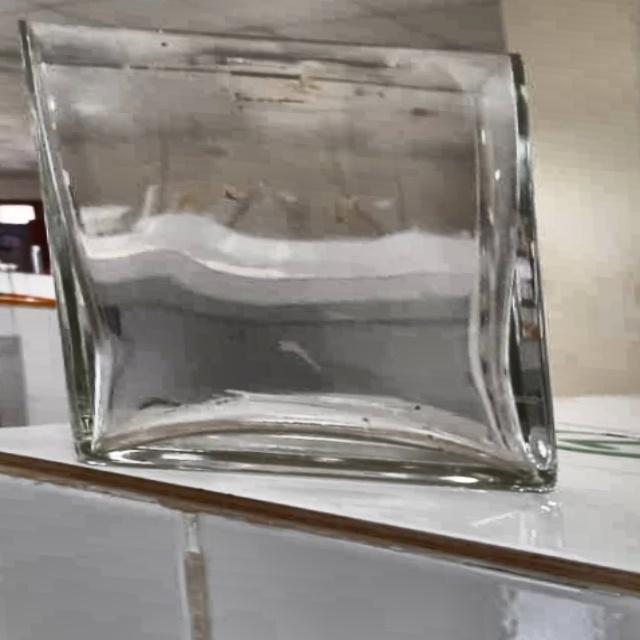TLC Tank: (18, 4, 560, 506)
